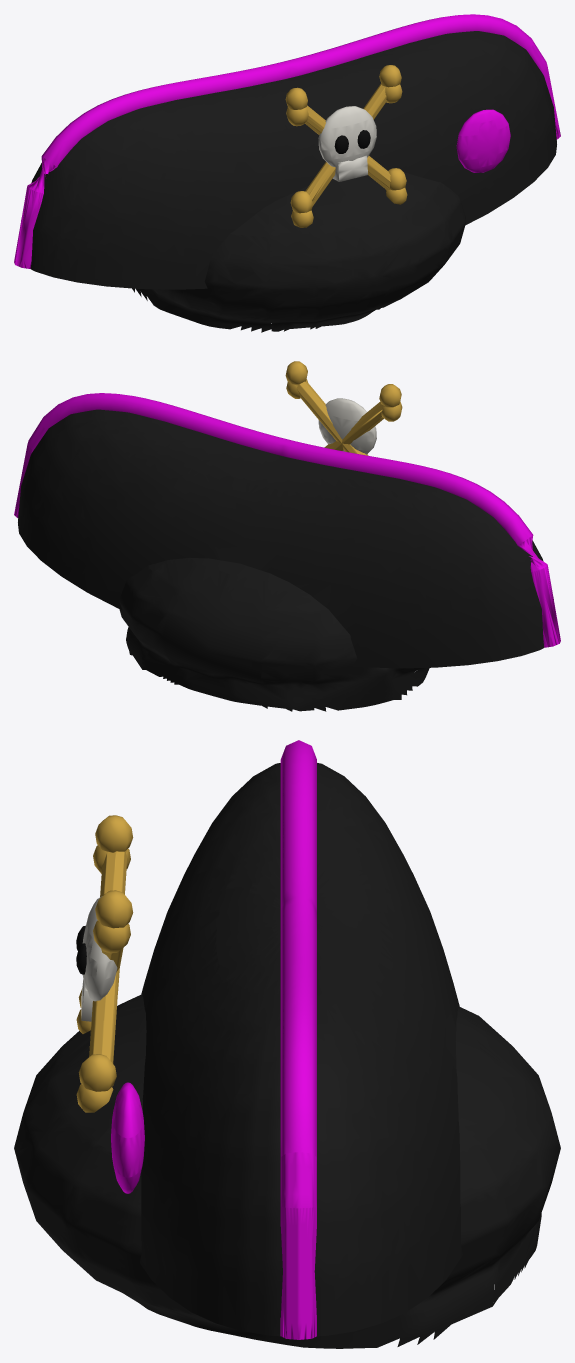
Rendered from hat_bicorne_male_lo.glb.
The picture shows the model from 3 angles, top to bottom: view 1: azimuth 30°, elevation 25°; view 2: azimuth 150°, elevation 25°; view 3: azimuth 270°, elevation 25°; orthographic projection. The views are drawn at different scales.
Parts seen in each view (by area): view 1: hat_bicorne_v5_male; view 2: hat_bicorne_v5_male; view 3: hat_bicorne_v5_male.
Part boxes in pixels (left/top/right/bottom): hat_bicorne_v5_male: left=14, top=14, right=560, bottom=332; hat_bicorne_v5_male: left=14, top=361, right=560, bottom=711; hat_bicorne_v5_male: left=14, top=740, right=560, bottom=1348.
Bounding box in the file's own units: 1.14 × 0.4763 × 0.6016.
